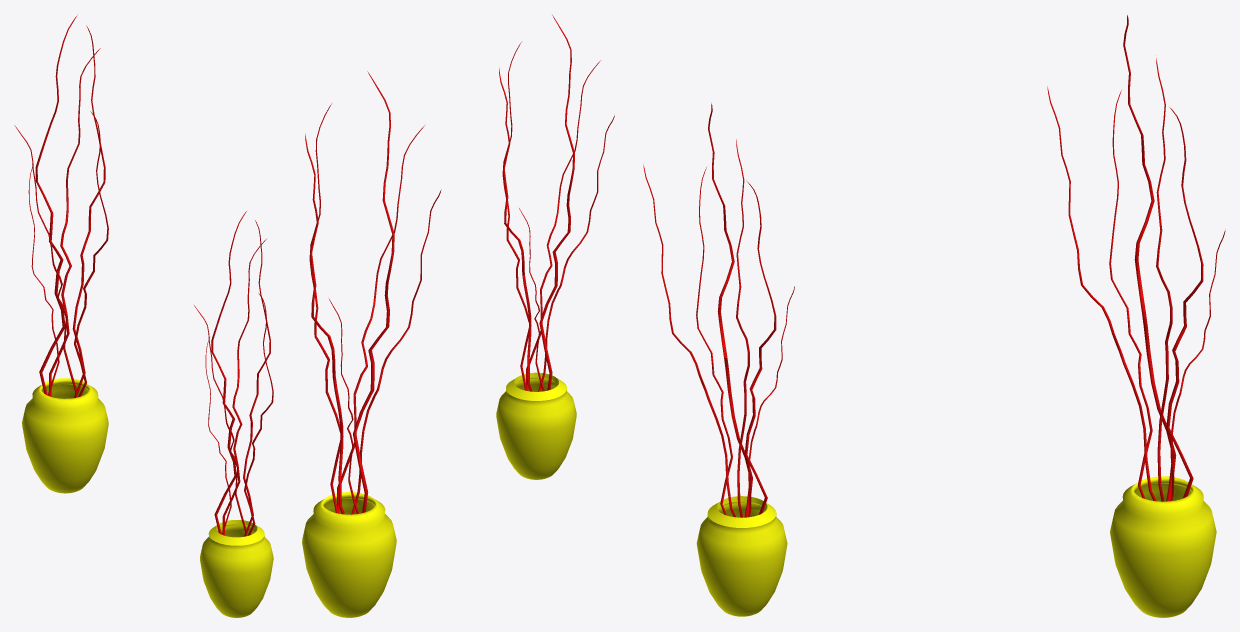
The model's file is room_decor_grp.fbx.
The picture shows the model from 3 angles, left to right: view 1: azimuth 30°, elevation 25°; view 2: azimuth 150°, elevation 25°; view 3: azimuth 270°, elevation 25°; orthographic projection. The views are drawn at different scales.
Visible parts, largest first — view 1: room_decor_2, room_decor_1; view 2: room_decor_2, room_decor_1; view 3: room_decor_2, room_decor_1.
Part boxes in pixels (<box>): room_decor_2: <box>14,15,108,493</box>; room_decor_1: <box>194,211,273,617</box>; room_decor_2: <box>302,71,441,617</box>; room_decor_1: <box>496,15,614,479</box>; room_decor_2: <box>1047,15,1225,617</box>; room_decor_1: <box>643,103,794,616</box>.
Bounding box in the file's own units: 35.74 × 156 × 138.
